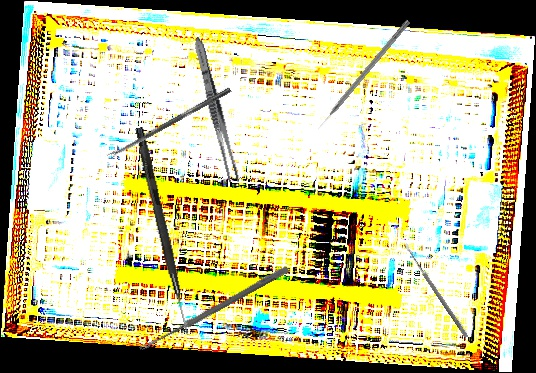Dressing Forceps: (189, 35, 243, 185)
Hook Surgical: (132, 126, 195, 337), (314, 18, 411, 131)
Surgical Spoon: (138, 264, 290, 354), (106, 86, 232, 160), (402, 242, 470, 339)
